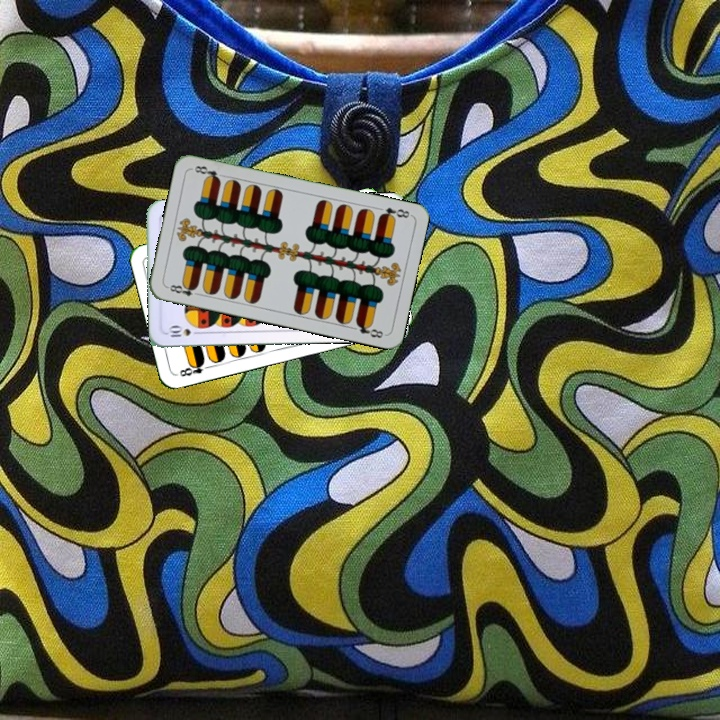E8: (176, 357, 214, 379), (163, 280, 203, 299), (375, 203, 413, 222)
S10: (163, 323, 204, 340)
